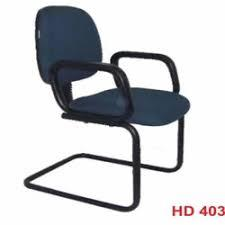chair: (19, 0, 196, 202)
